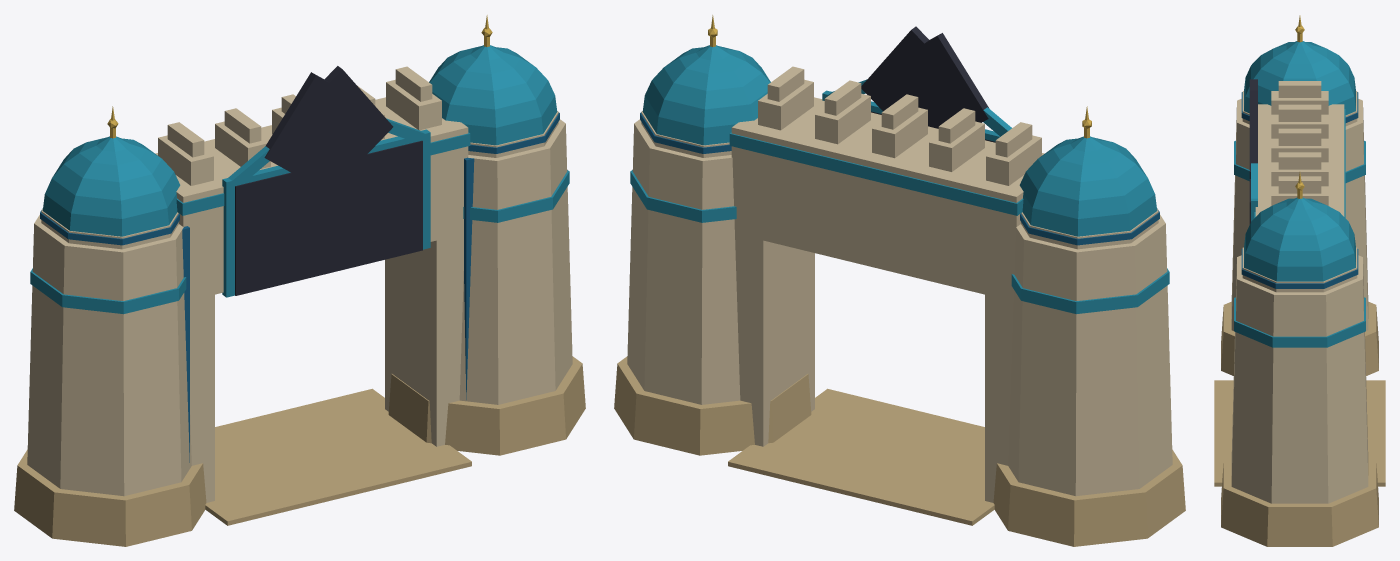
Rendered from gate_t2.glb.
3 views of the same model, side by side, from view 1: azimuth 30°, elevation 25°; view 2: azimuth 150°, elevation 25°; view 3: azimuth 270°, elevation 25° (orthographic). The views are drawn at different scales.
Parts seen in each view (by area): view 1: body; view 2: body; view 3: body.
Part boxes in pixels (<box>): body: <box>14,15,585,546</box>; body: <box>614,15,1185,546</box>; body: <box>1214,15,1385,546</box>.
Size of the model in its own units: 3.71 by 2.71 by 1.2.
